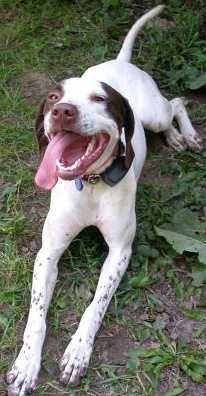Dog: (14, 72, 155, 381)
